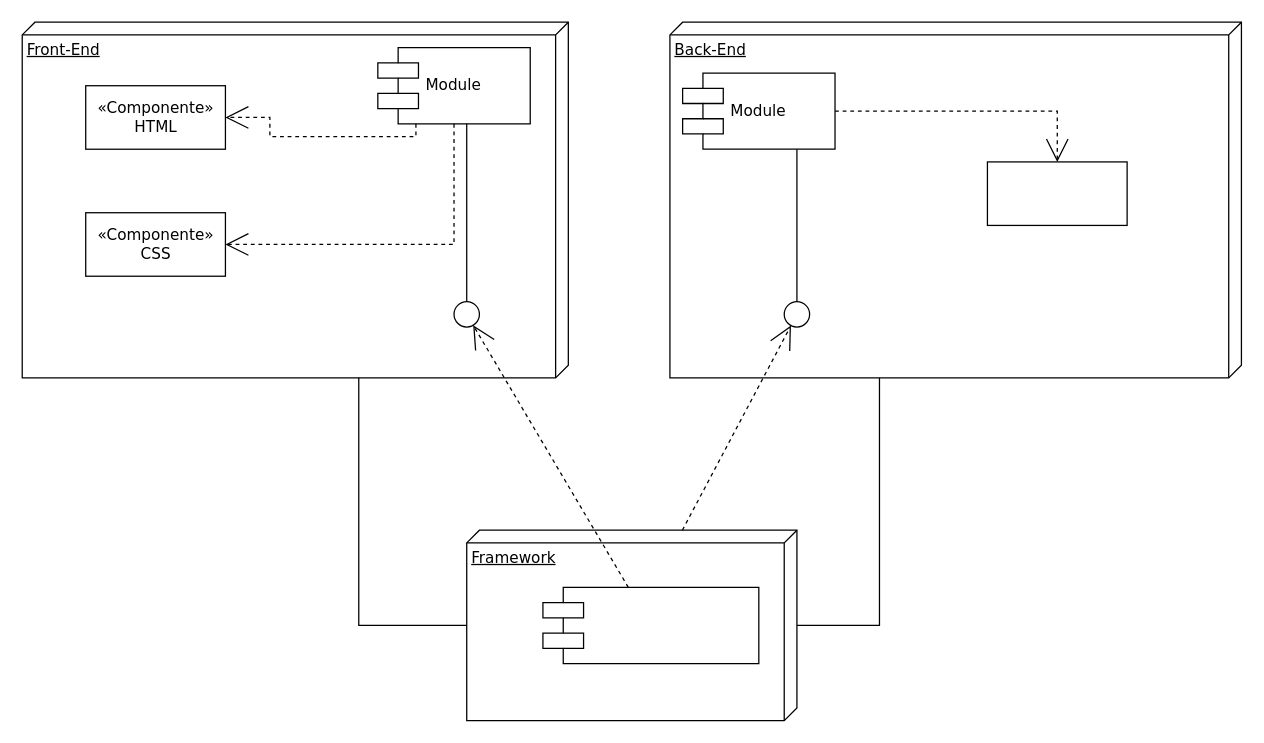
Image size: 1264x743. Some labels were removed from this diagram. The shapes that lost their labels are listed below. From the top down, each one's centre as x and y in pixels, then its label:
At point 1056,193: "«Componente» JavaScript".
At point 650,625: "<<componente>> SpringBoot".
